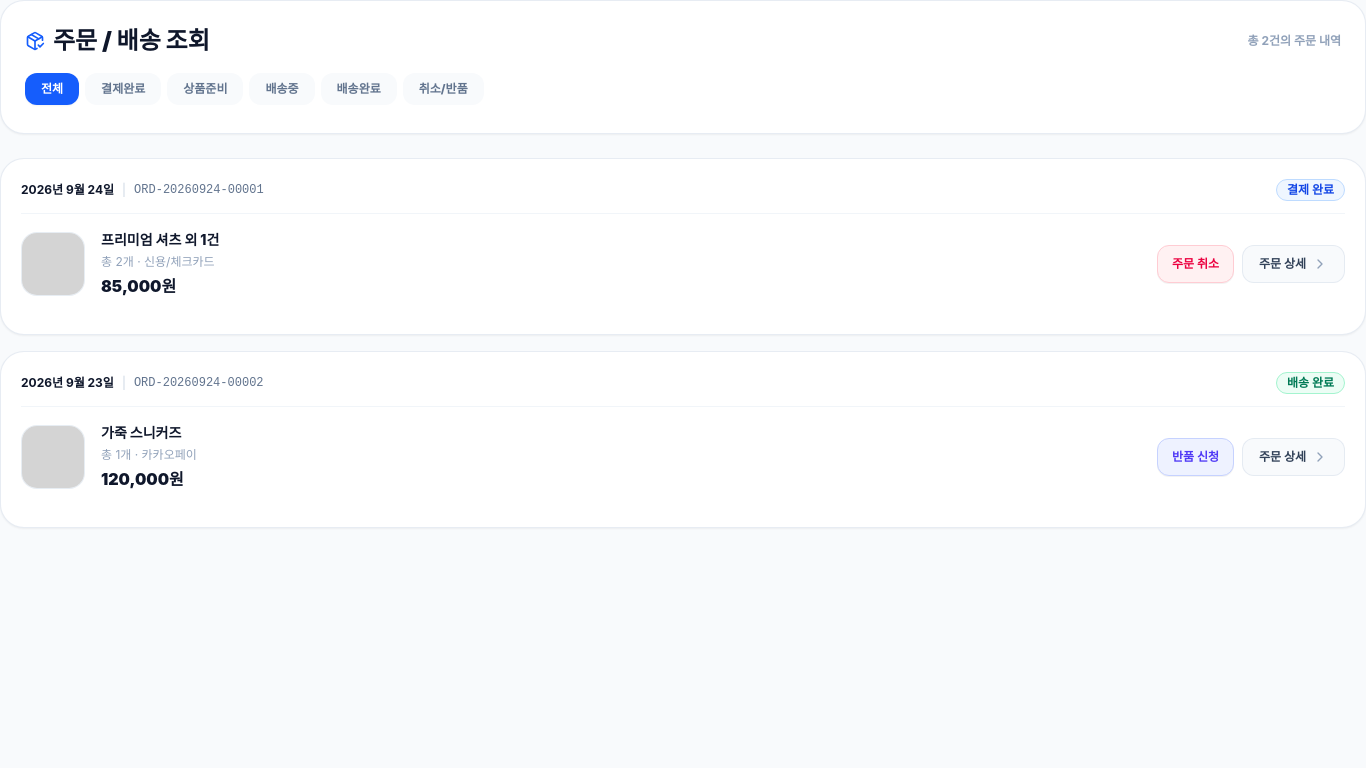
Test: OrderListViewer Component › 상태 탭을 클릭하면 해당 상태의 주문만 필터링되어 노출된다
// 배송완료 탭 클릭
Click the button "배송완료".
click(359, 89)  # box top-left (321, 73), bottom-right (397, 105)
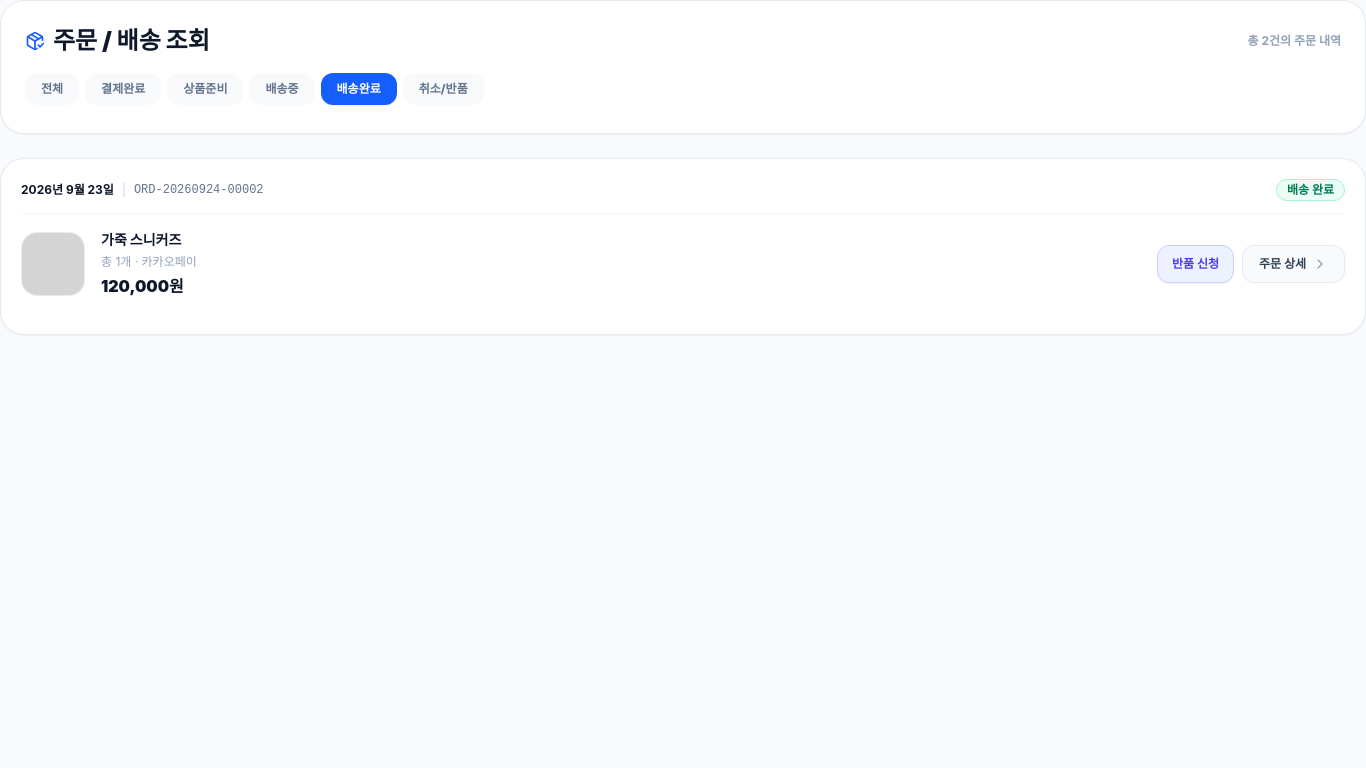
Expected: the heading "가죽 스니커즈" is shown, top-left (101, 231), bottom-right (181, 248)
Expected: the heading "프리미엄 셔츠 외 1건" is gone
